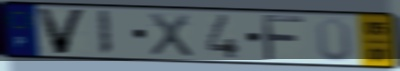0: (314, 16, 354, 63)
4: (204, 13, 241, 60)
F: (259, 13, 307, 63)
I: (95, 9, 113, 57)
V: (34, 6, 90, 56)
X: (147, 11, 196, 58)
